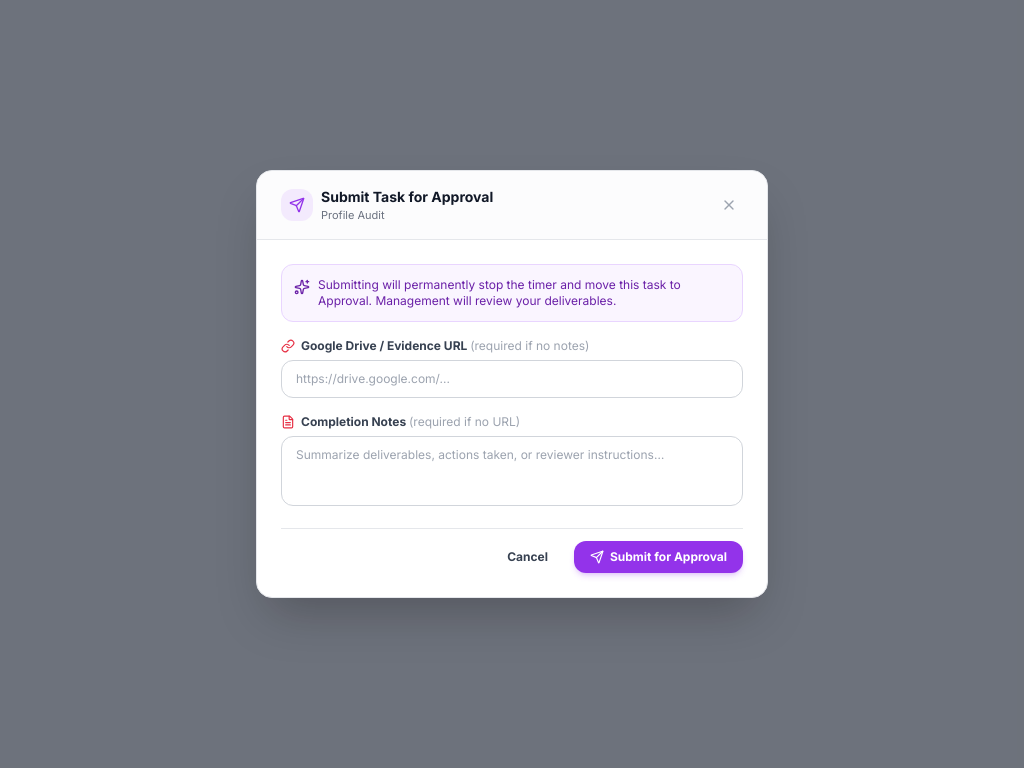
TaskApprovalModal — mandatory evidence › Test 7: Blocked when both URL and notes are empty
# Both fields empty — click submit
Click the button with test id "submit-approval-confirm-btn". click: coordinates (658, 557)
box: [574, 541, 743, 573]
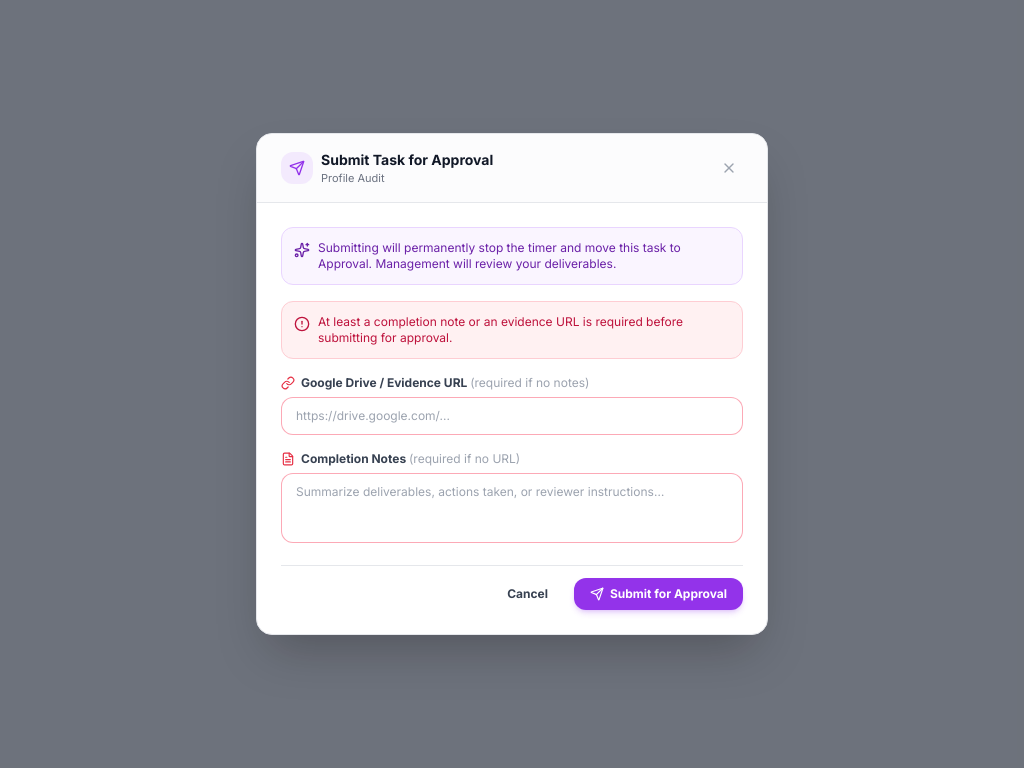
Now the text with test id "evidence-required-error" is shown, box [318, 314, 730, 346]
